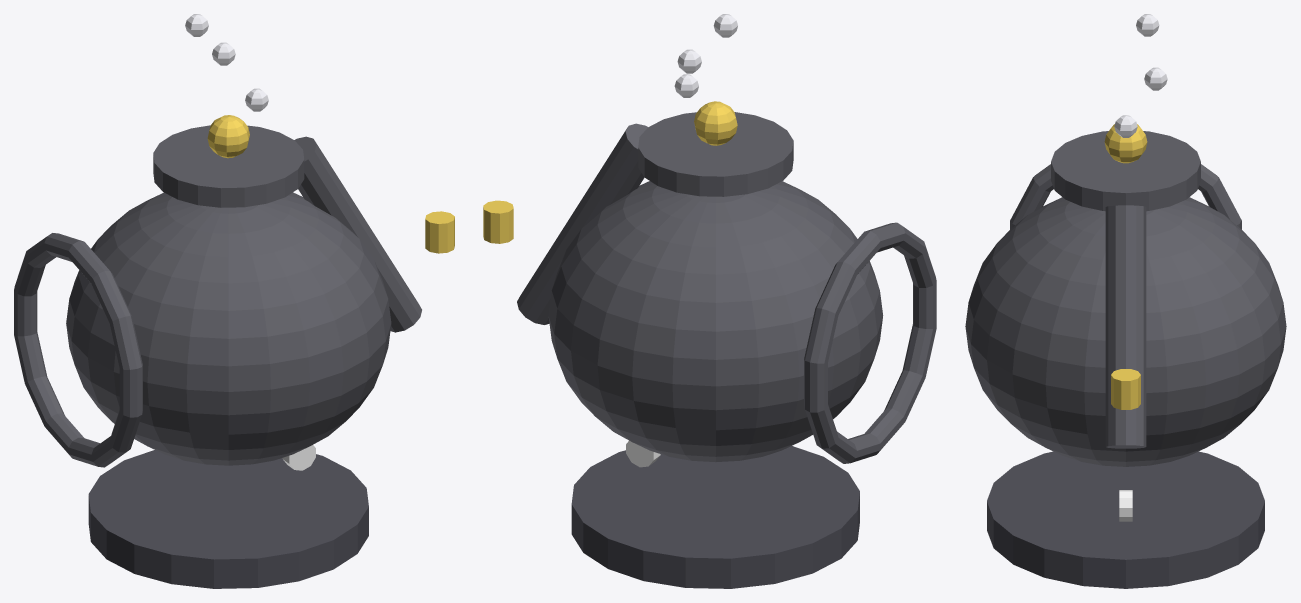
Rendered from kettle.fbx.
3 views of the same model, side by side, from view 1: azimuth 30°, elevation 25°; view 2: azimuth 150°, elevation 25°; view 3: azimuth 270°, elevation 25° (orthographic). The views are drawn at different scales.
Parts seen in each view (by area): view 1: KT_Body, KT_Base, KT_Handle, KT_Lid, KT_Spout, KT_Knob, KT_SpoutTip; view 2: KT_Body, KT_Base, KT_Handle, KT_Lid, KT_Spout, KT_Knob, KT_SpoutTip; view 3: KT_Body, KT_Base, KT_Spout, KT_Lid, KT_Handle, KT_SpoutTip, KT_Knob, KT_Btn.
Part boxes in pixels (x1=…): KT_Body: x1=66, y1=192, x2=391, y2=465; KT_Base: x1=88, y1=450, x2=368, y2=588; KT_Handle: x1=14, y1=233, x2=142, y2=467; KT_Lid: x1=153, y1=125, x2=304, y2=207; KT_Spout: x1=294, y1=136, x2=421, y2=332; KT_Knob: x1=207, y1=115, x2=249, y2=158; KT_SpoutTip: x1=425, y1=211, x2=454, y2=253; KT_Body: x1=548, y1=181, x2=883, y2=462; KT_Base: x1=571, y1=446, x2=859, y2=588; KT_Handle: x1=804, y1=222, x2=936, y2=463; KT_Lid: x1=638, y1=112, x2=793, y2=196; KT_Spout: x1=517, y1=123, x2=647, y2=324; KT_Knob: x1=694, y1=101, x2=737, y2=145; KT_SpoutTip: x1=483, y1=200, x2=513, y2=243; KT_Body: x1=965, y1=197, x2=1286, y2=466; KT_Base: x1=987, y1=451, x2=1264, y2=588; KT_Spout: x1=1105, y1=205, x2=1146, y2=448; KT_Lid: x1=1051, y1=131, x2=1200, y2=211; KT_Handle: x1=1010, y1=164, x2=1241, y2=229; KT_SpoutTip: x1=1111, y1=369, x2=1140, y2=409; KT_Knob: x1=1104, y1=124, x2=1147, y2=163; KT_Btn: x1=1119, y1=490, x2=1132, y2=521.
Bounding box in the file's own units: 81.76 × 104 × 60.
